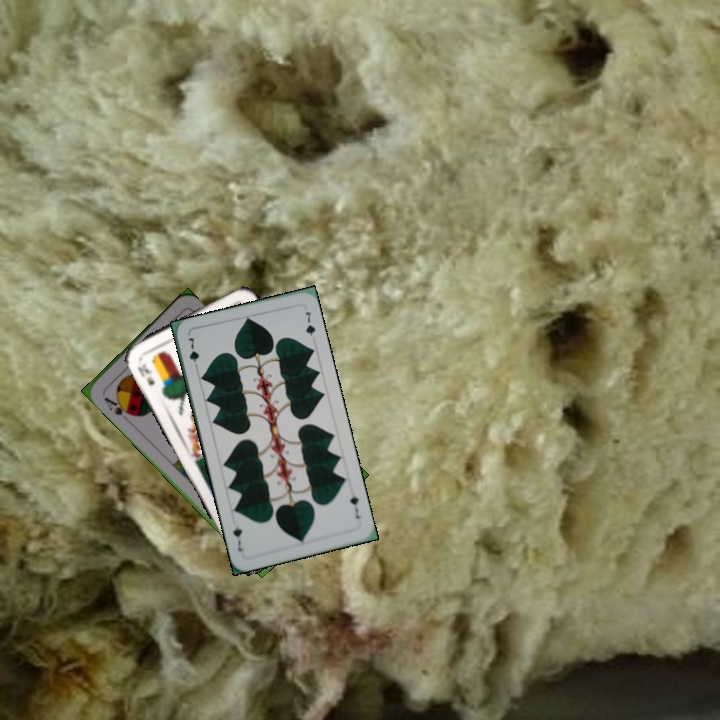EK: (133, 360, 157, 388)
G7: (184, 332, 202, 373), (346, 491, 362, 521)
SA: (100, 393, 135, 418)
